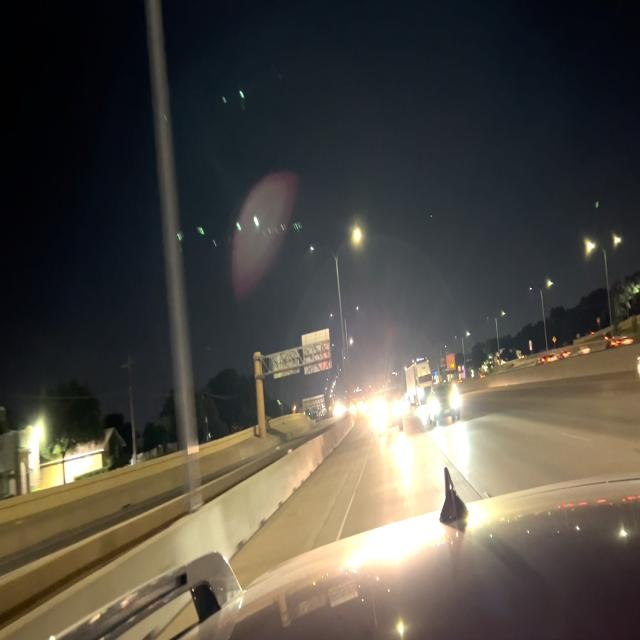back-of-sign: (302, 327, 333, 375), (271, 346, 301, 381), (303, 393, 325, 413)
